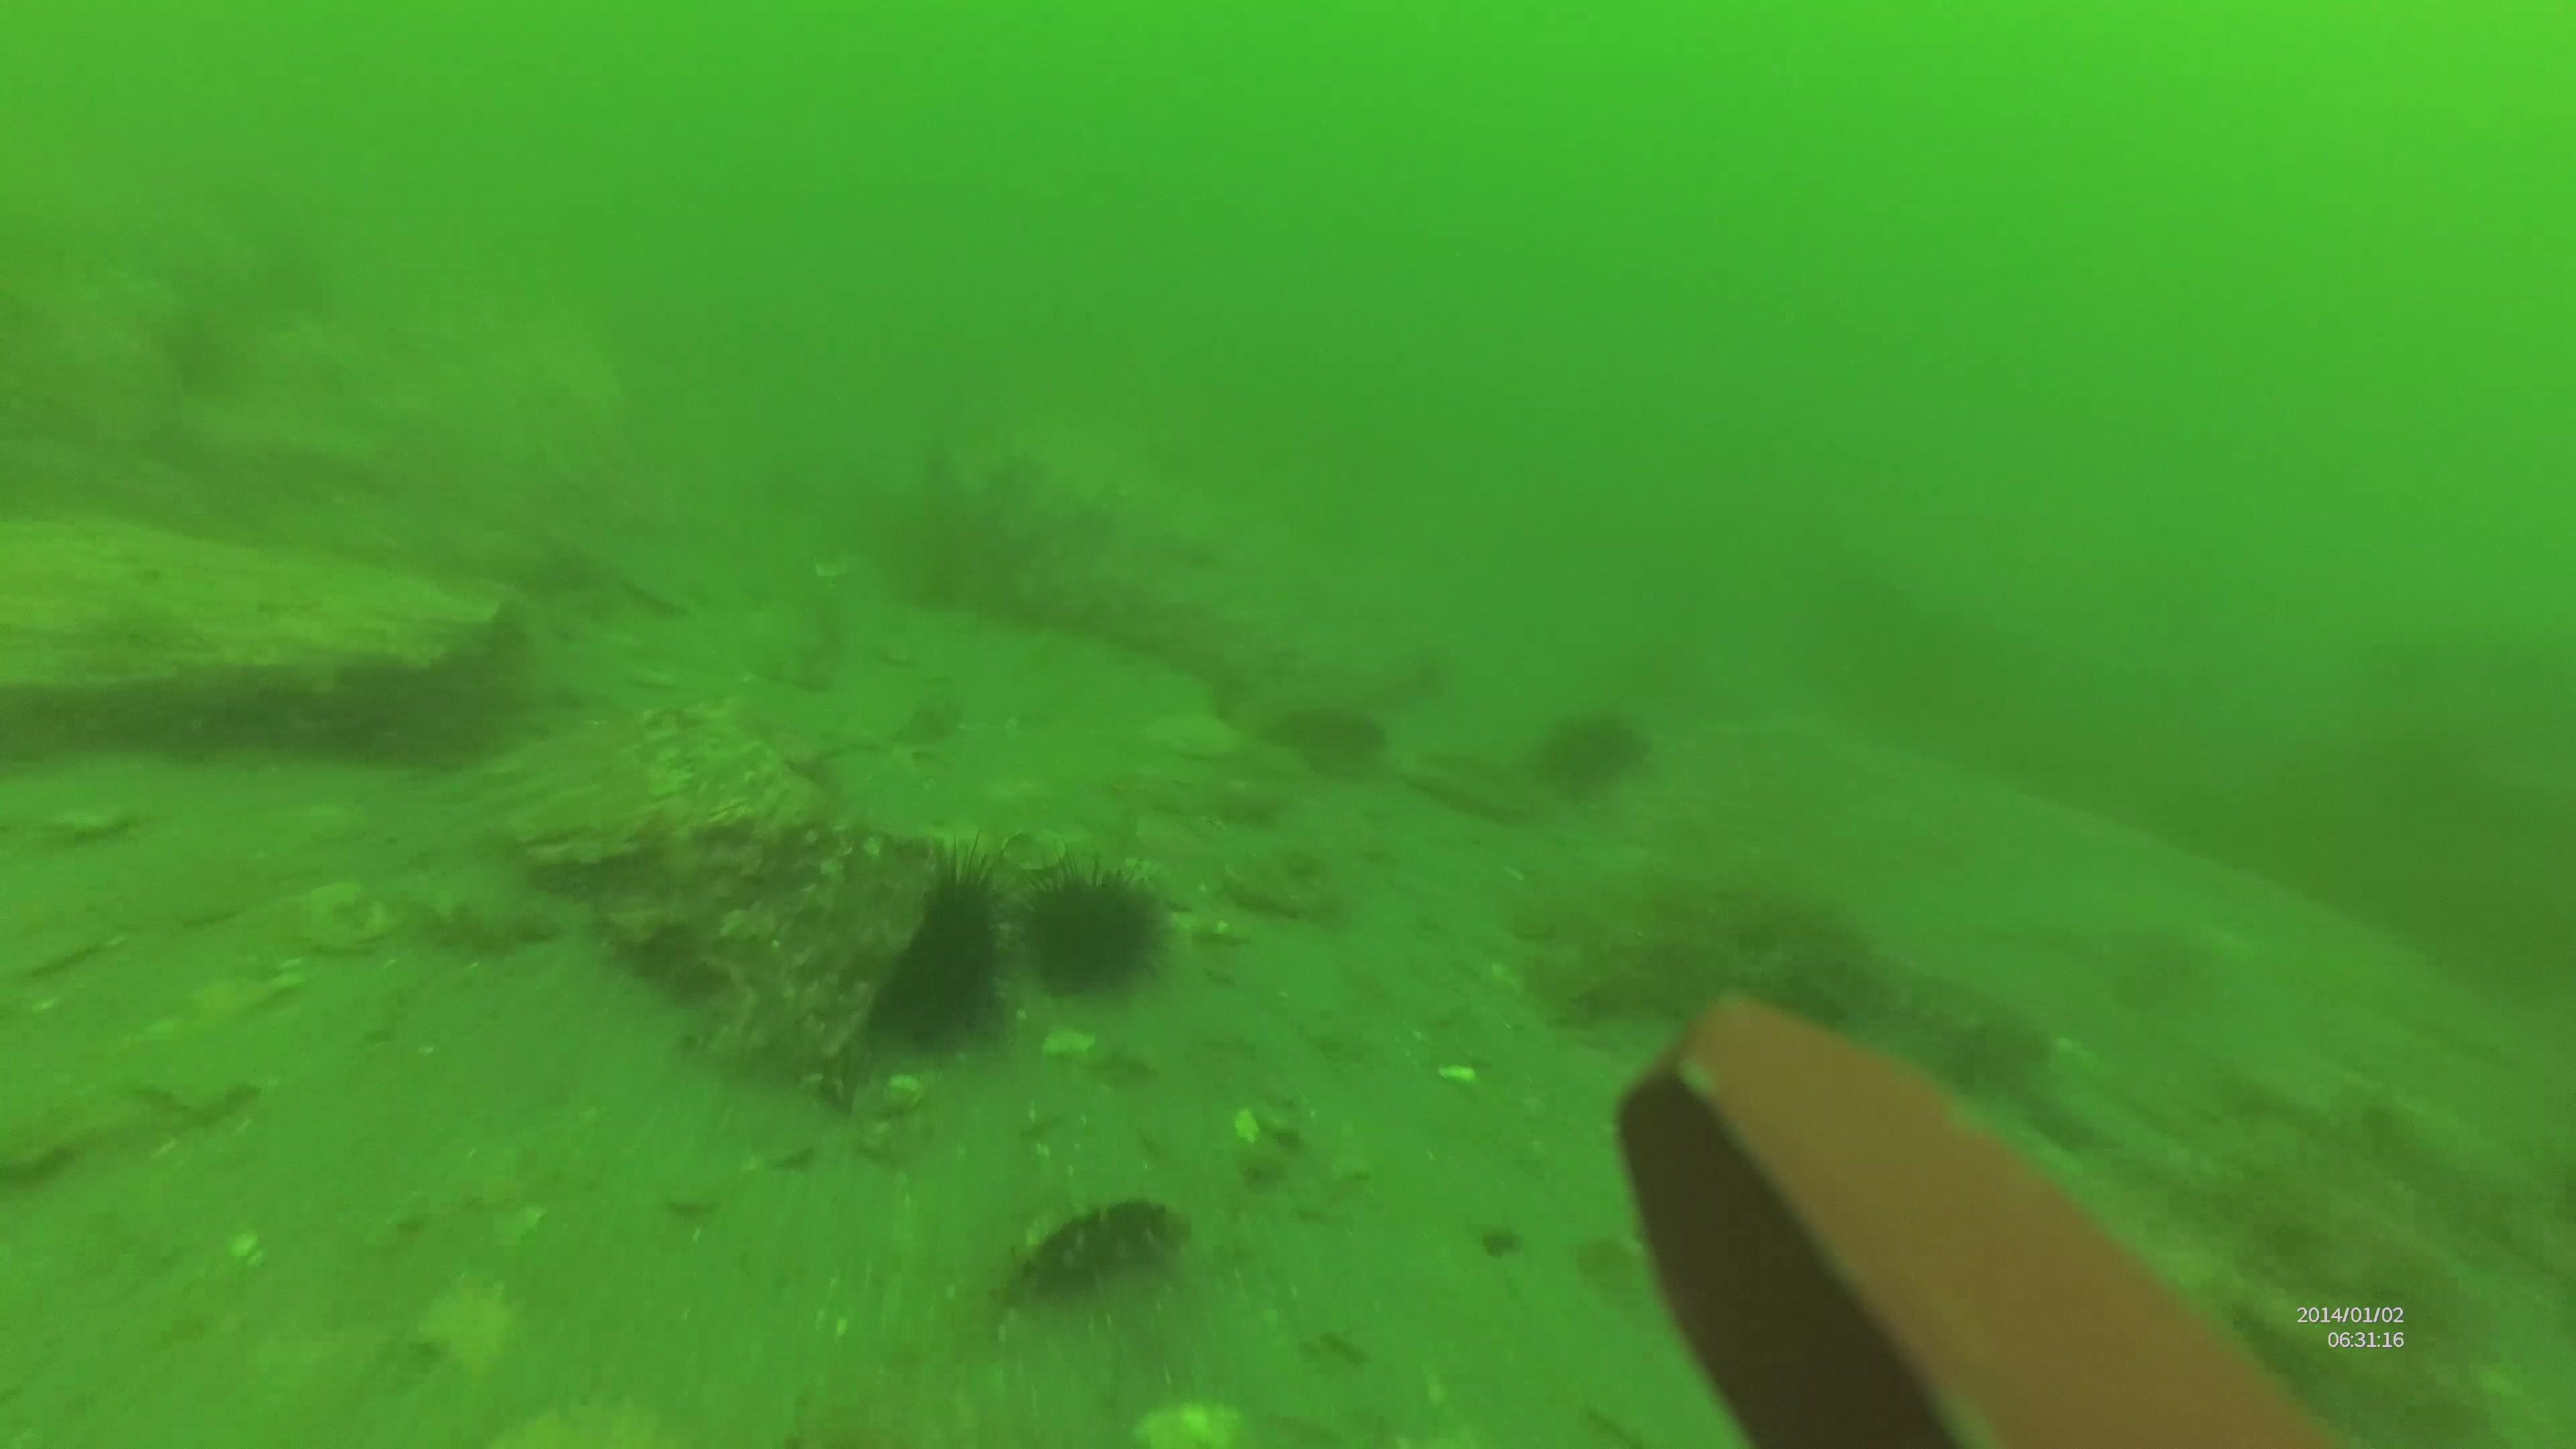echinus: (826, 840, 1012, 1044), (1012, 855, 1166, 987)
